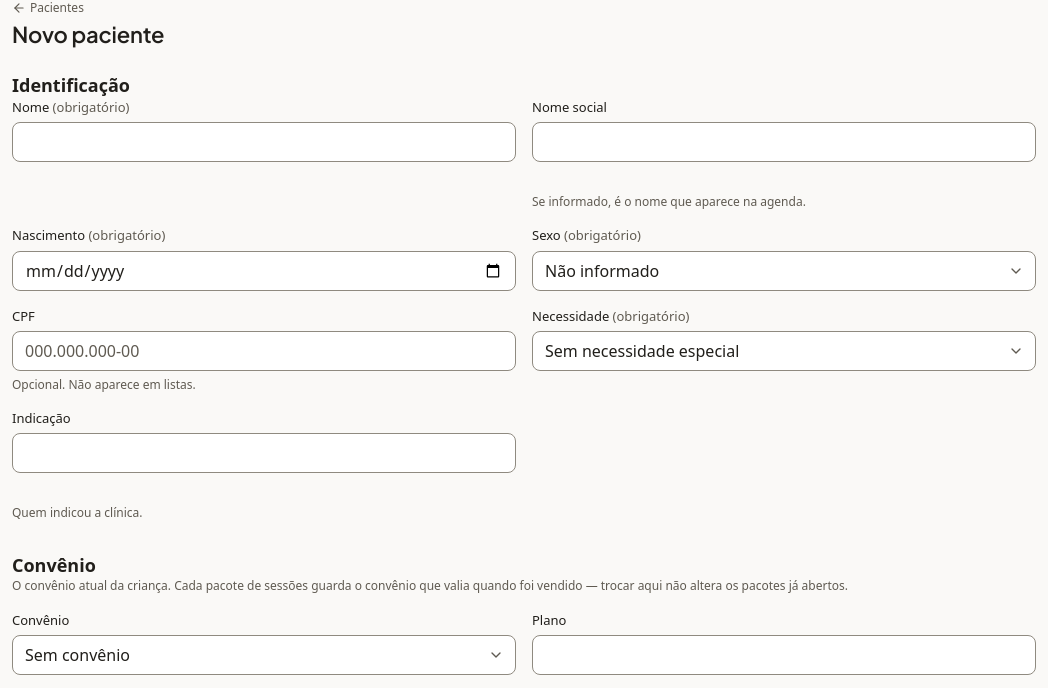
Pacientes — cadastro › deve avisar que o menor exige responsável antes de salvar
The width and height of the screenshot is (1048, 688).
Note: ACT — espera a régua desenhar o formulário antes de digitar
Type "2019-05-04" into the date field labelled "Nascimento (obrigatório)" at (264, 270), box 12,250 -> 516,290
(page scrolled)
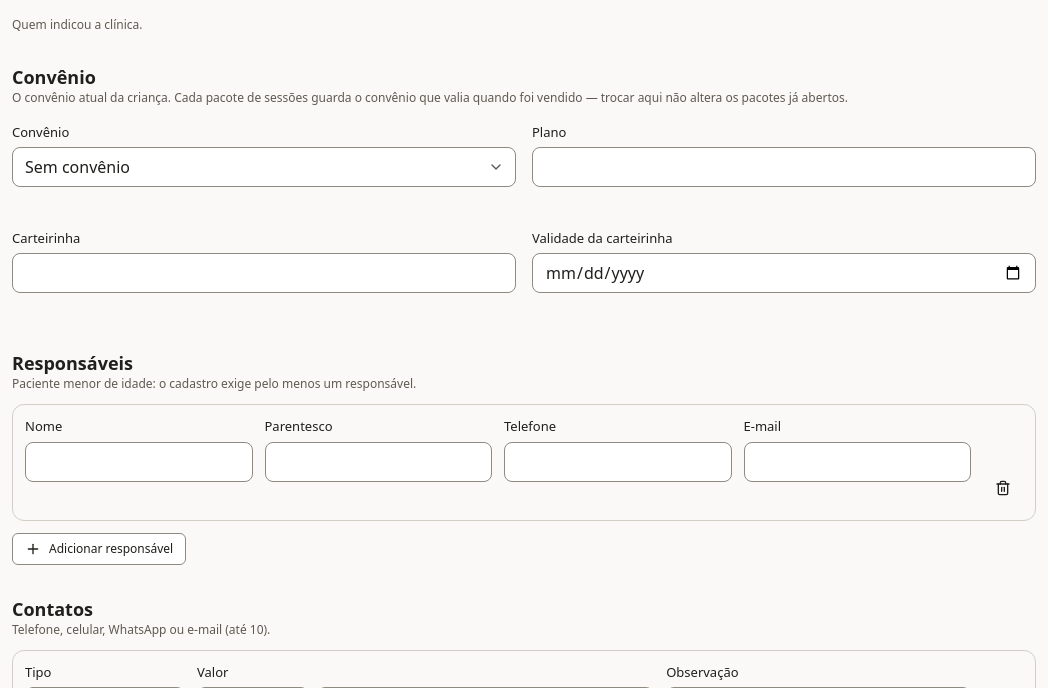
Check: the text "menor de idade: o cadastro exige pelo menos um responsável" is shown, box 12,375 -> 416,392
